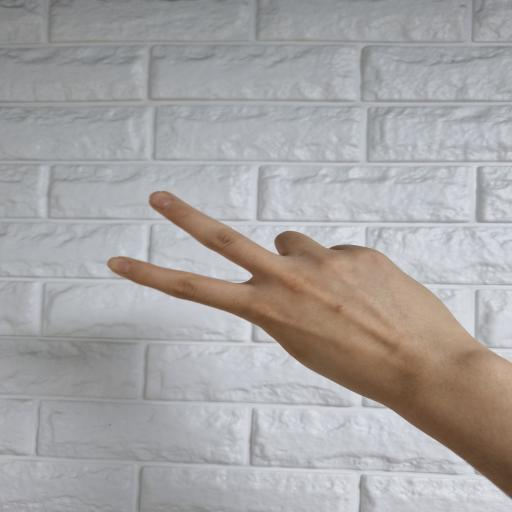Scissors: (108, 192, 480, 410)
